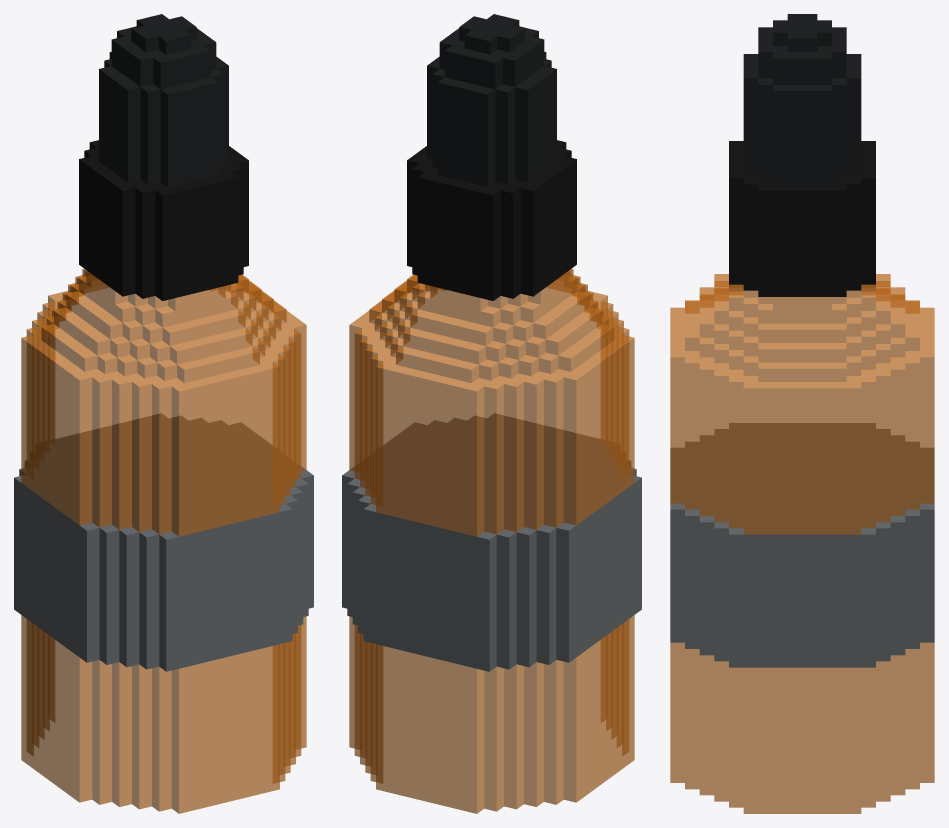
File: mugwort_oil.glb
The picture shows the model from 3 angles, left to right: view 1: azimuth 30°, elevation 25°; view 2: azimuth 150°, elevation 25°; view 3: azimuth 270°, elevation 25°; orthographic projection.
Visible parts, largest first — view 1: mugwort_oil:compound; view 2: mugwort_oil:compound; view 3: mugwort_oil:compound.
Boxes of the visible parts, box(x1,y1,x2,y2) form: mugwort_oil:compound: box(14, 14, 313, 813); mugwort_oil:compound: box(342, 14, 641, 813); mugwort_oil:compound: box(670, 14, 934, 813).
Bounding box in the file's own units: 0.036 × 0.11 × 0.036.
